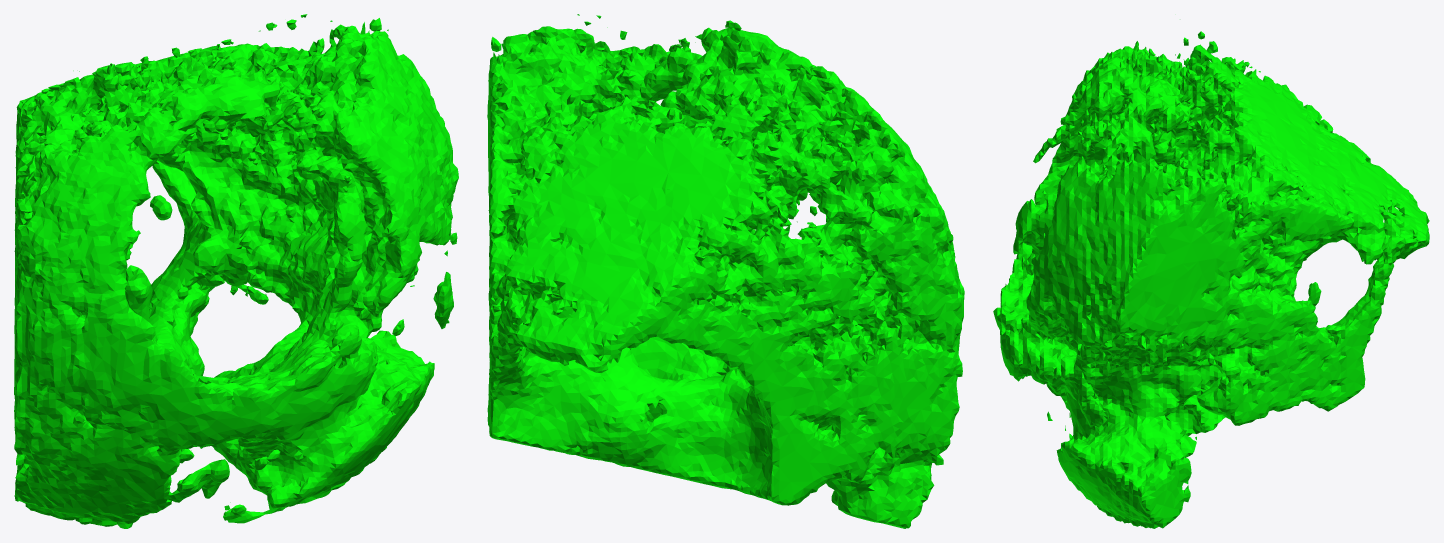
The model's file is B939XXXX-1_base_3.obj.
The picture shows the model from 3 angles, left to right: view 1: azimuth 30°, elevation 25°; view 2: azimuth 150°, elevation 25°; view 3: azimuth 270°, elevation 25°; orthographic projection. The views are drawn at different scales.
Parts seen in each view (by area): view 1: 3_base; view 2: 3_base; view 3: 3_base.
Boxes of the visible parts, x1,y1,x2,y2 form: 3_base: (14,14,458,528); 3_base: (487,14,964,528); 3_base: (993,31,1429,528).
Size of the model in its own units: 218 by 214 by 206.
